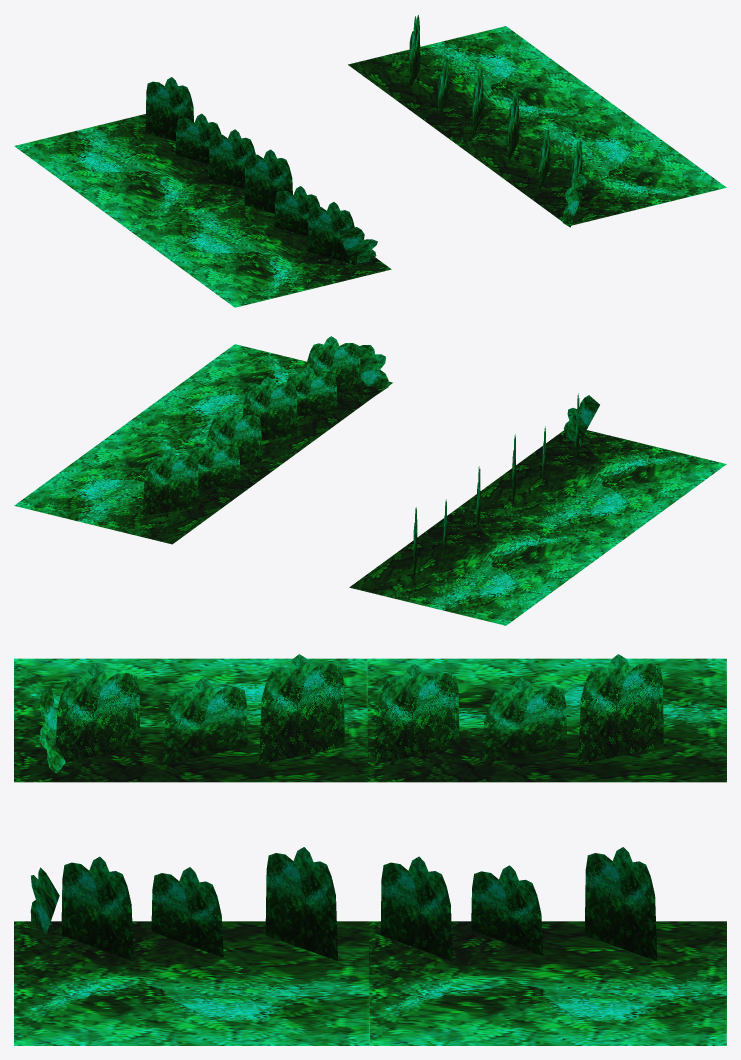
File: eu_uptown_far.fbx
3 views of the same model, one above another, from view 1: azimuth 30°, elevation 25°; view 2: azimuth 150°, elevation 25°; view 3: azimuth 270°, elevation 25° (orthographic). The views are drawn at different scales.
Visible parts, largest first — view 1: polySurface25; view 2: polySurface25; view 3: polySurface25.
Part boxes in pixels (x1,y1,x2,y2): polySurface25: (14,15,726,307); polySurface25: (14,336,726,625); polySurface25: (14,654,726,1045).
Bounding box in the file's own units: 12856 × 1844 × 10000.
